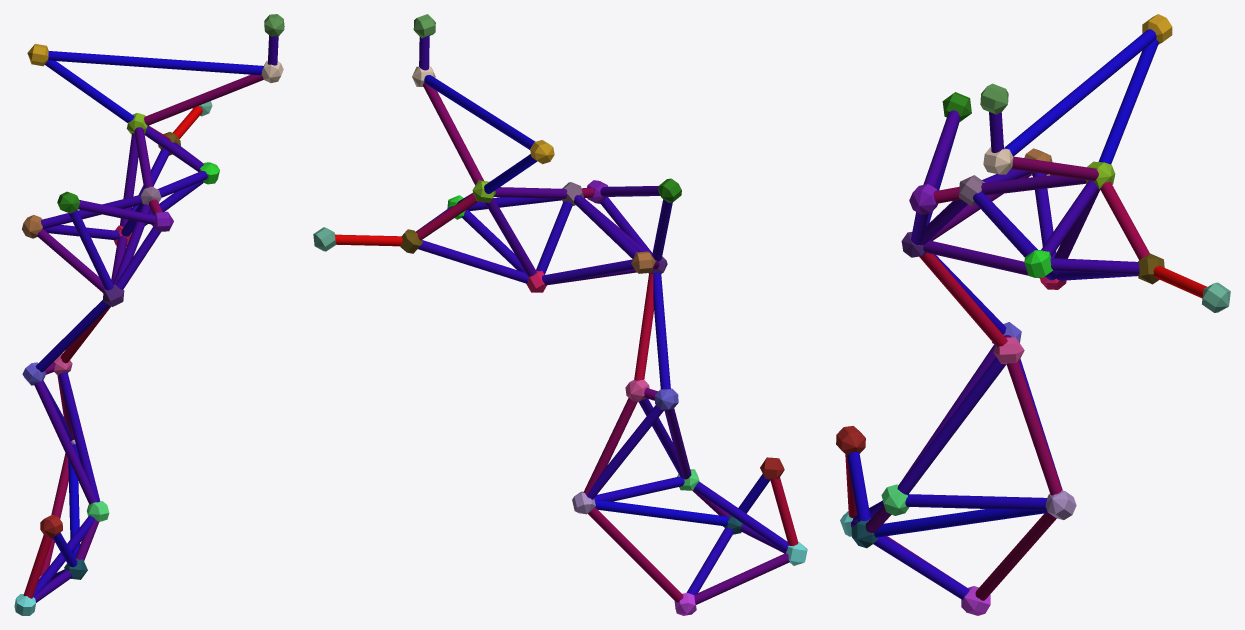
File: fg-00030-skel.obj
The picture shows the model from 3 angles, left to right: view 1: azimuth 30°, elevation 25°; view 2: azimuth 150°, elevation 25°; view 3: azimuth 270°, elevation 25°; orthographic projection. The views are drawn at different scales.
Size of the model in its own units: 0.159 by 0.2365 by 0.1236.
